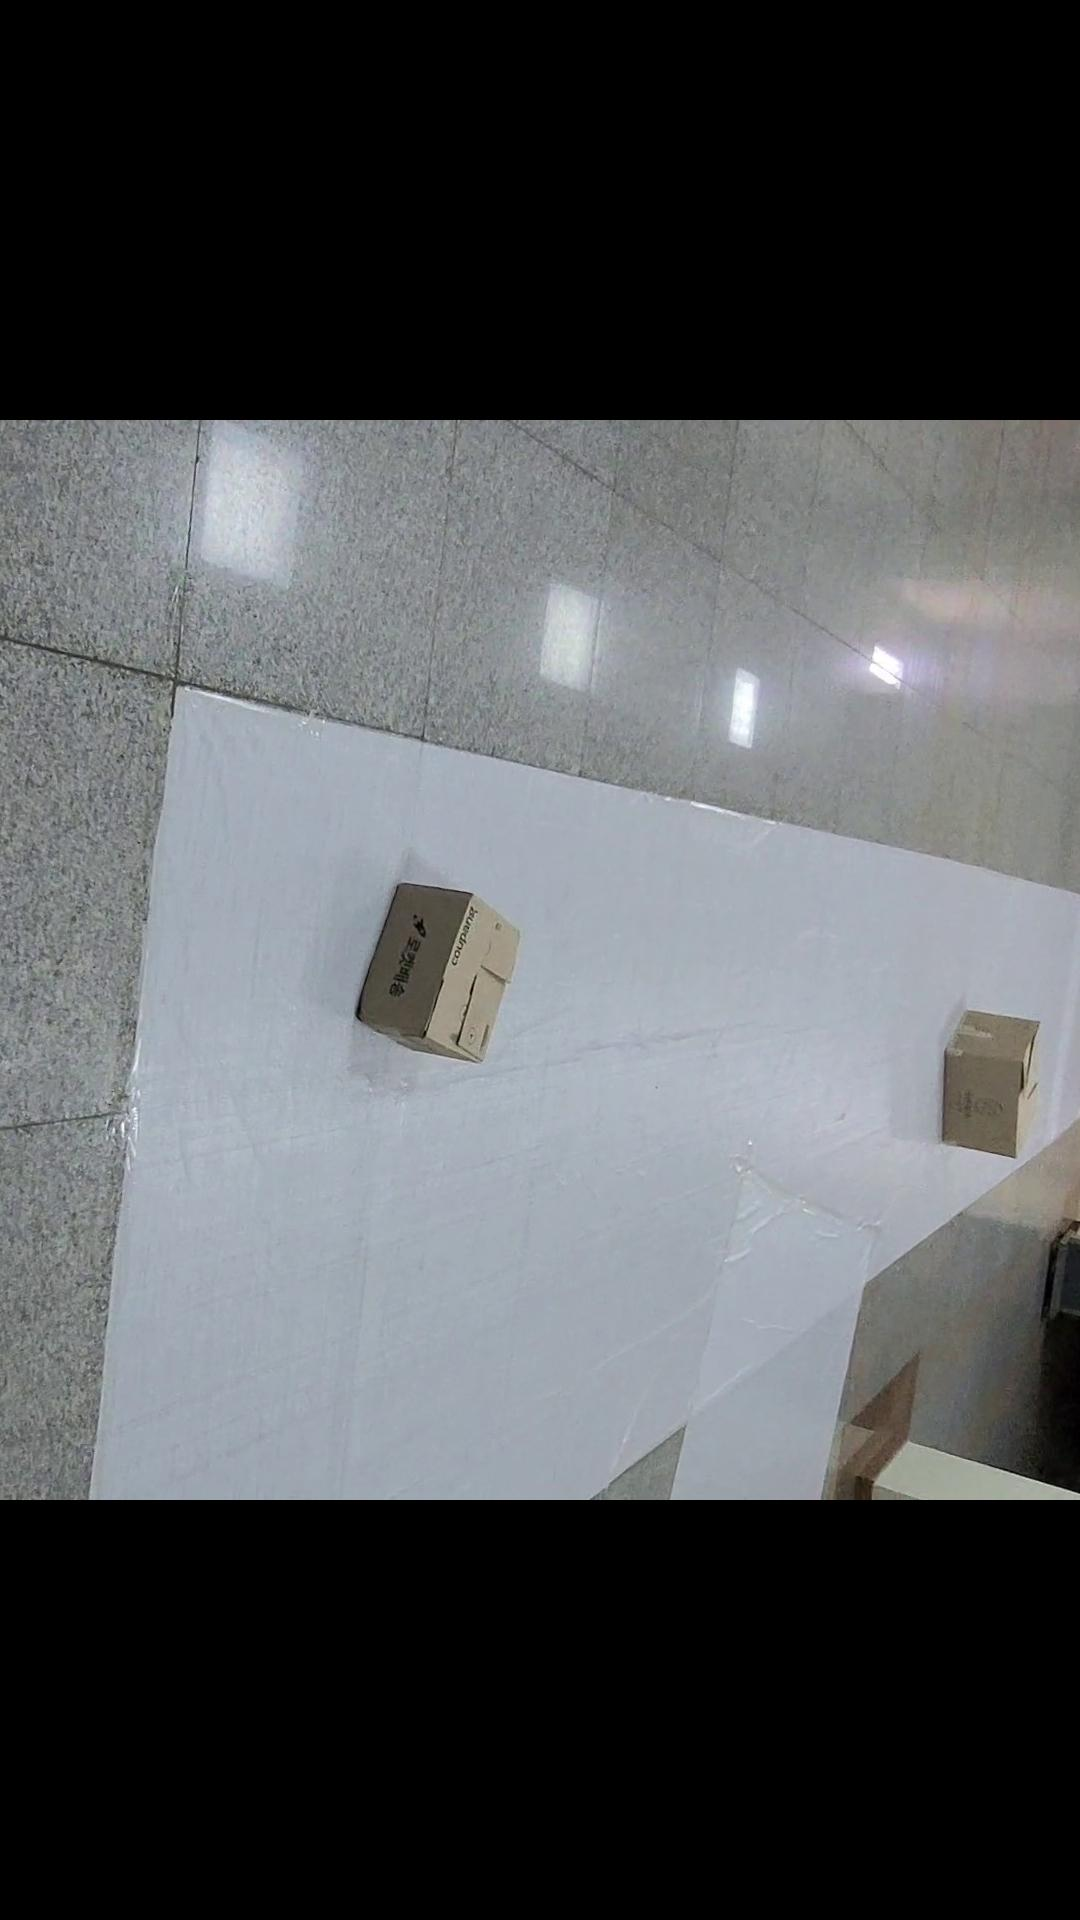Box: (897, 956, 1072, 1197), (345, 872, 535, 1069)
